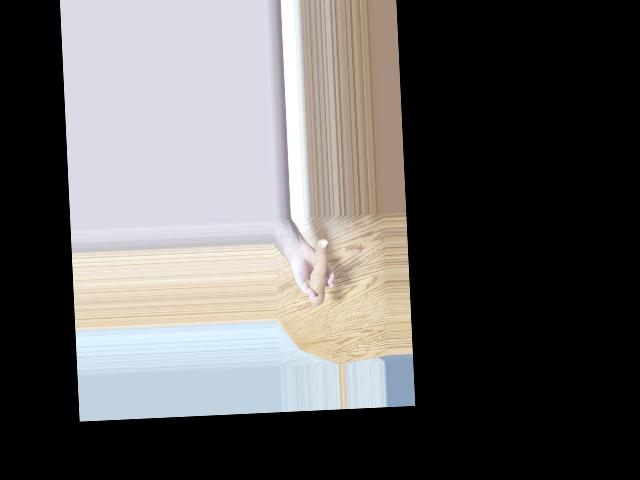sweet_potato: (306, 240, 328, 305)
